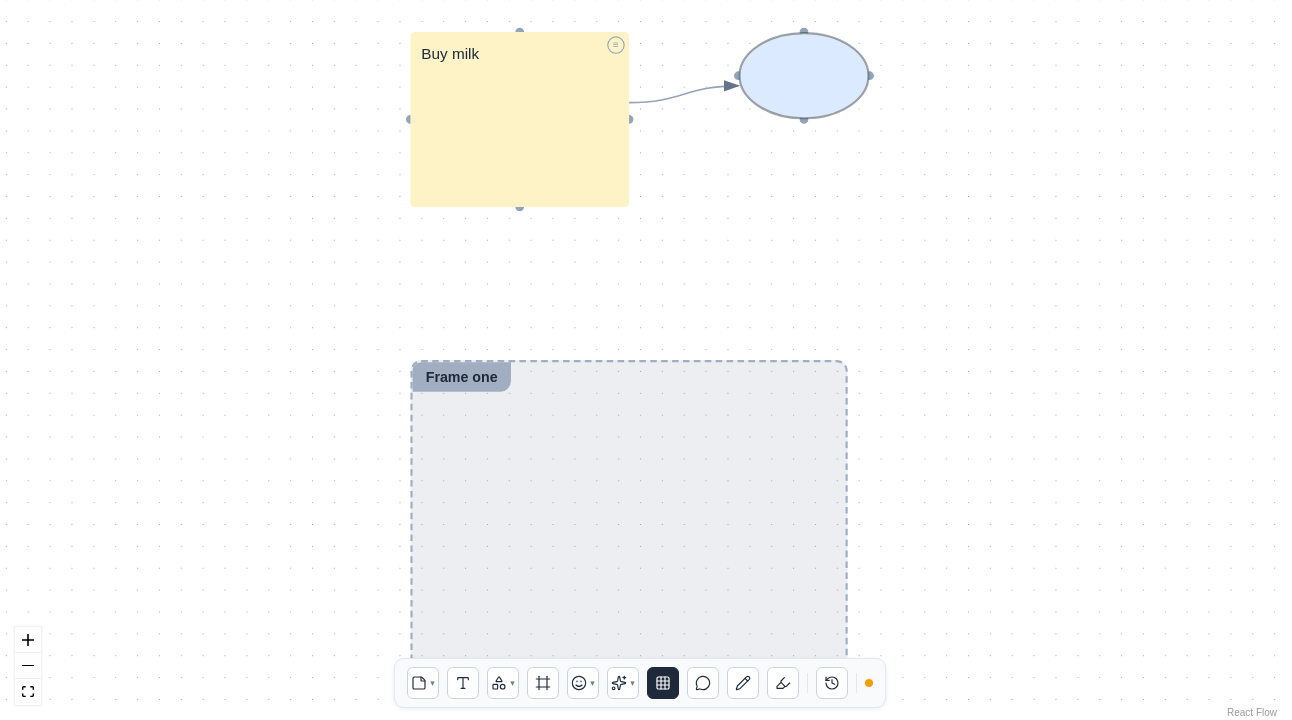
Test case: BoardCanvas — pencil + annotation overlays, mode exclusivity (P6-T35) › activating annotation mode deactivates pencil mode
Click the button named "pencil": (743, 683) [727,667,759,699]
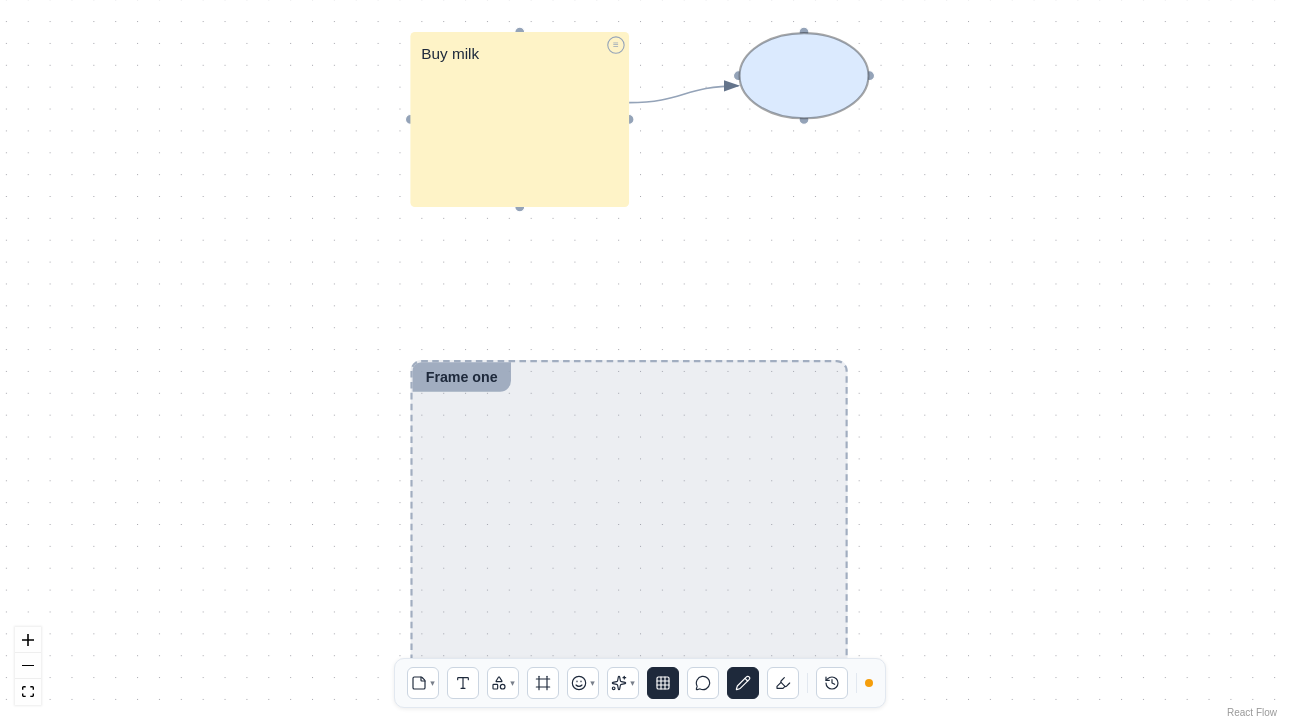
Now the element with test id "pencil-overlay" is shown
Click the button named "annotat": (783, 683) [767,667,799,699]
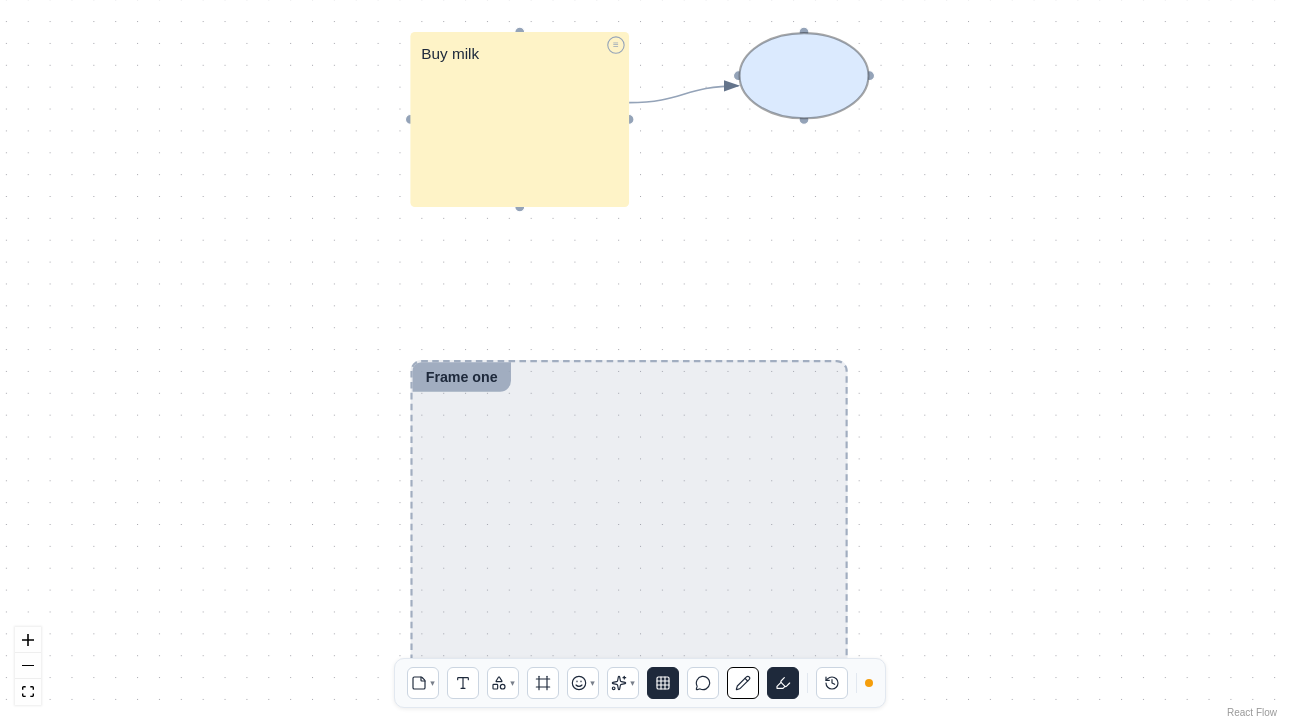
Now the element with test id "pencil-overlay" is gone
Now the element with test id "annotation-overlay" is shown
